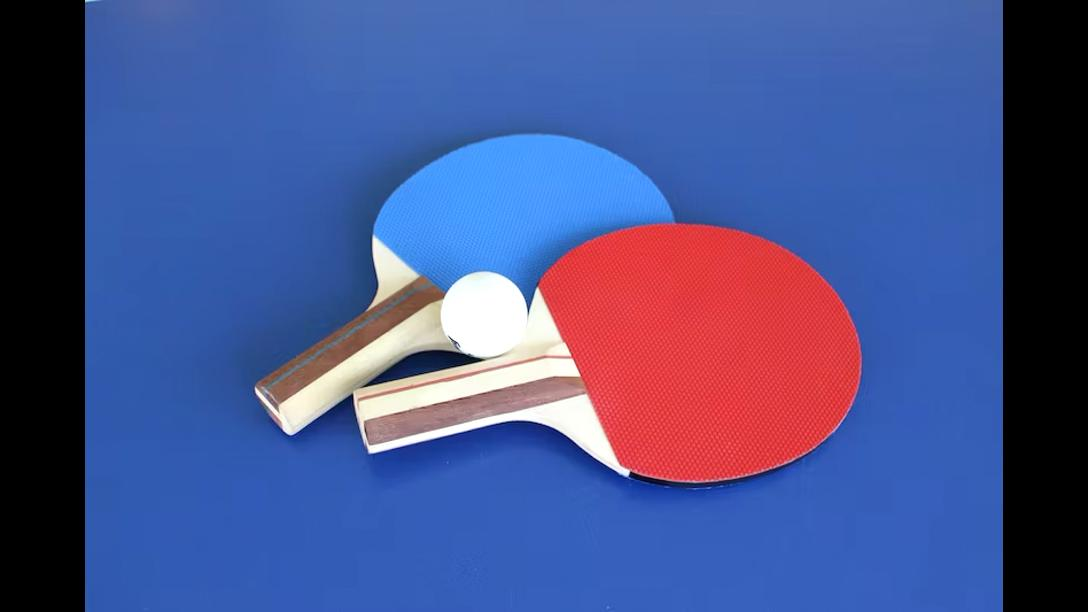Table-Tennis-Ball: (443, 272, 525, 354)
